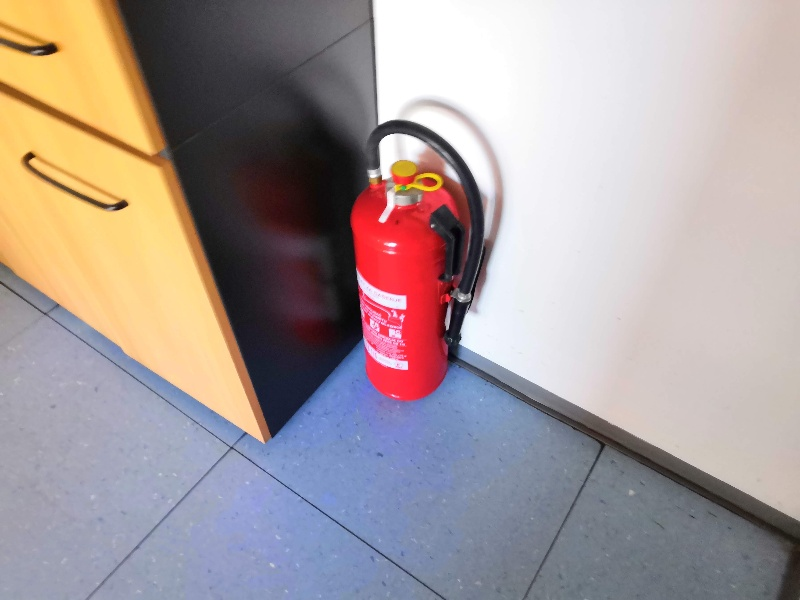vataparat: (351, 120, 484, 399)
